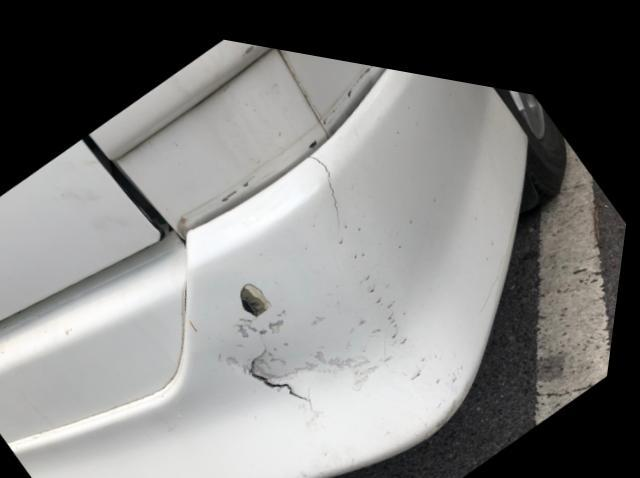crack: (260, 326, 323, 391), (311, 143, 348, 225)
